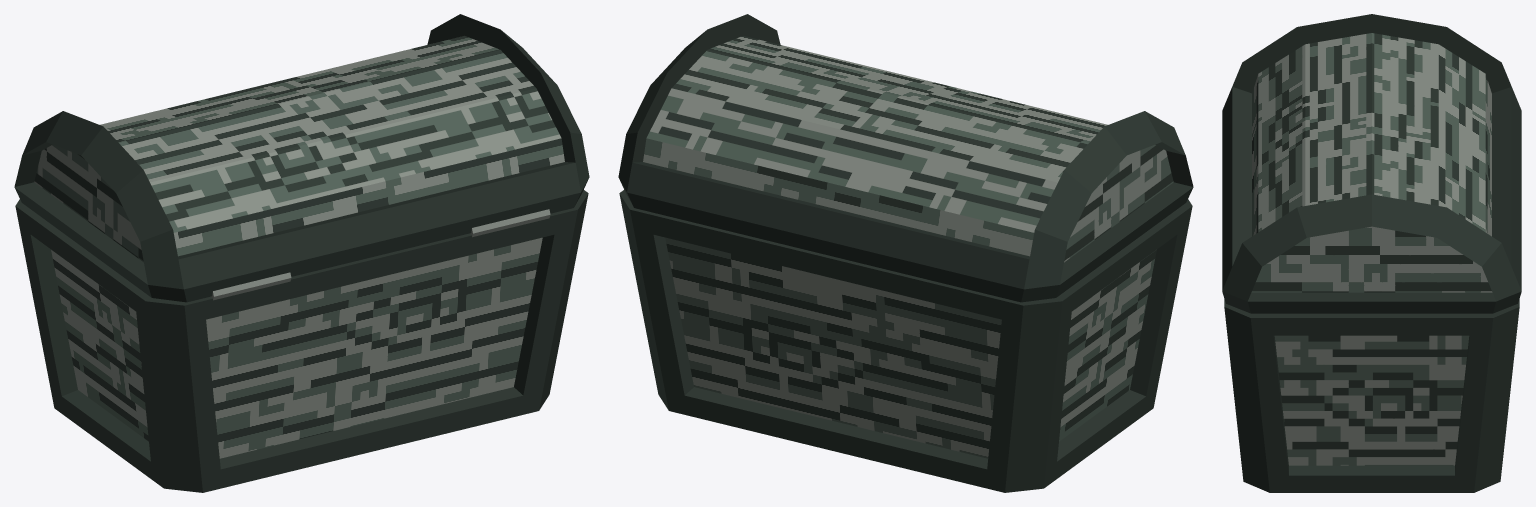
File: Chest.fbx
The picture shows the model from 3 angles, left to right: view 1: azimuth 30°, elevation 25°; view 2: azimuth 150°, elevation 25°; view 3: azimuth 270°, elevation 25°; orthographic projection. The views are drawn at different scales.
Visible parts, largest first — view 1: chest, chest_top; view 2: chest, chest_top; view 3: chest_top, chest.
Boxes of the visible parts, box(x1,y1,x2,y2) form: chest: box(15, 190, 588, 492); chest_top: box(14, 14, 589, 302); chest: box(619, 190, 1192, 492); chest_top: box(618, 14, 1193, 302); chest_top: box(1222, 14, 1521, 313); chest: box(1224, 299, 1519, 492).
Bounding box in the file's own units: 6.84 × 4.77 × 4.3.
